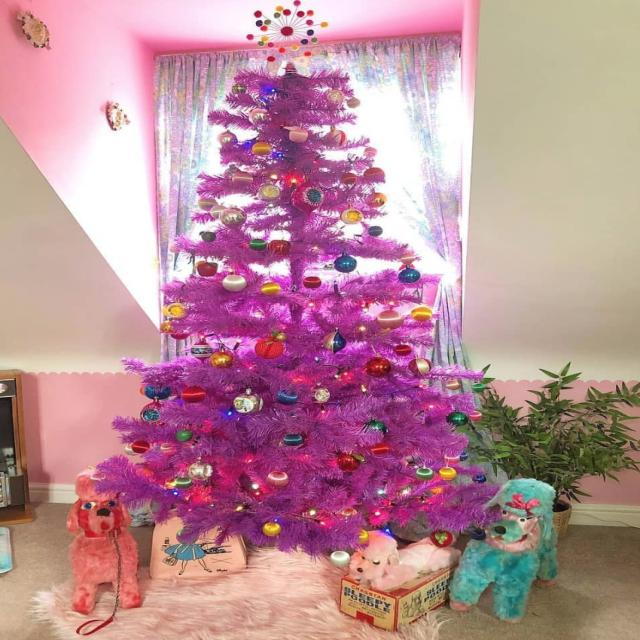Christmas-tree: (98, 22, 484, 546)
